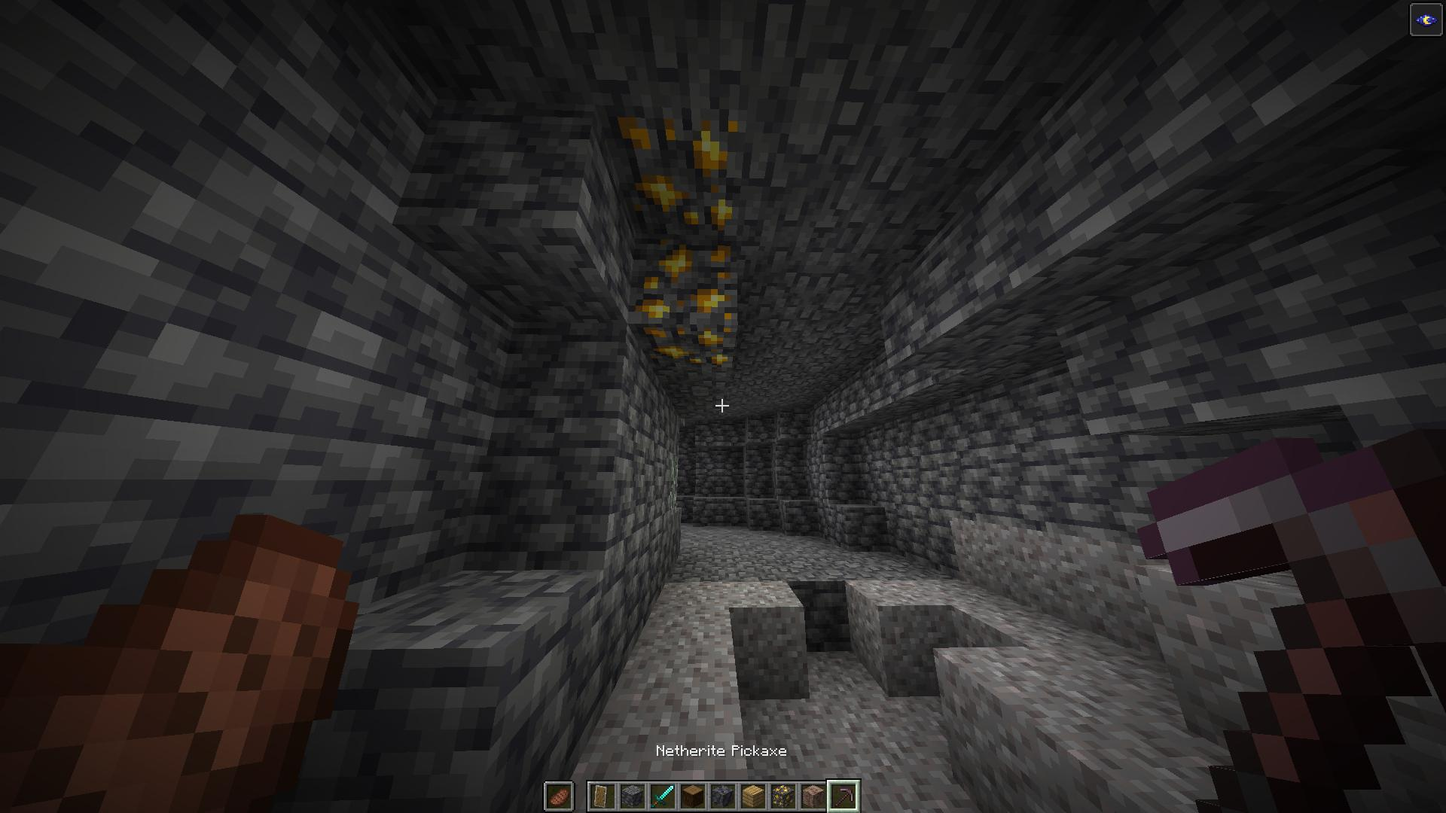gold ore: (608, 102, 751, 243), (634, 247, 740, 385)
